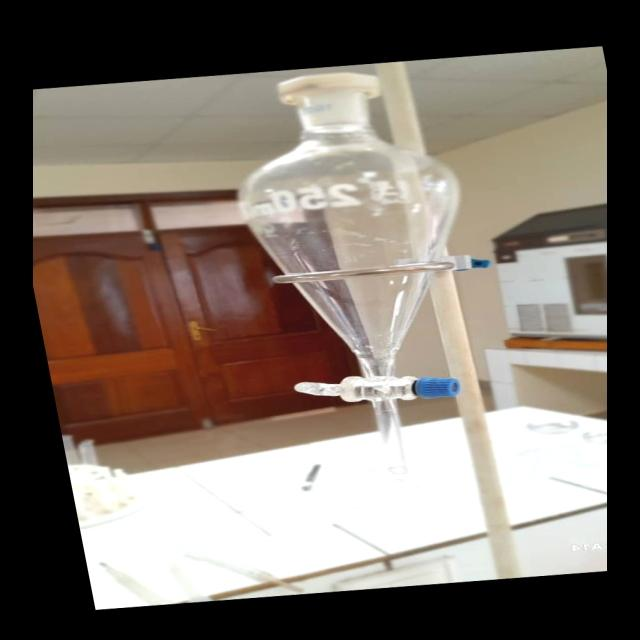Separating Funnel: (214, 59, 514, 486)
